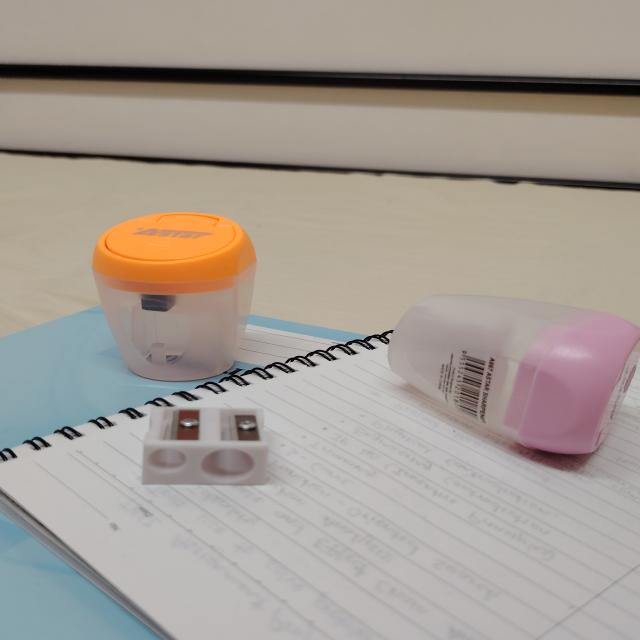sharpener: (388, 295, 640, 454), (93, 212, 256, 381), (142, 406, 268, 484)
